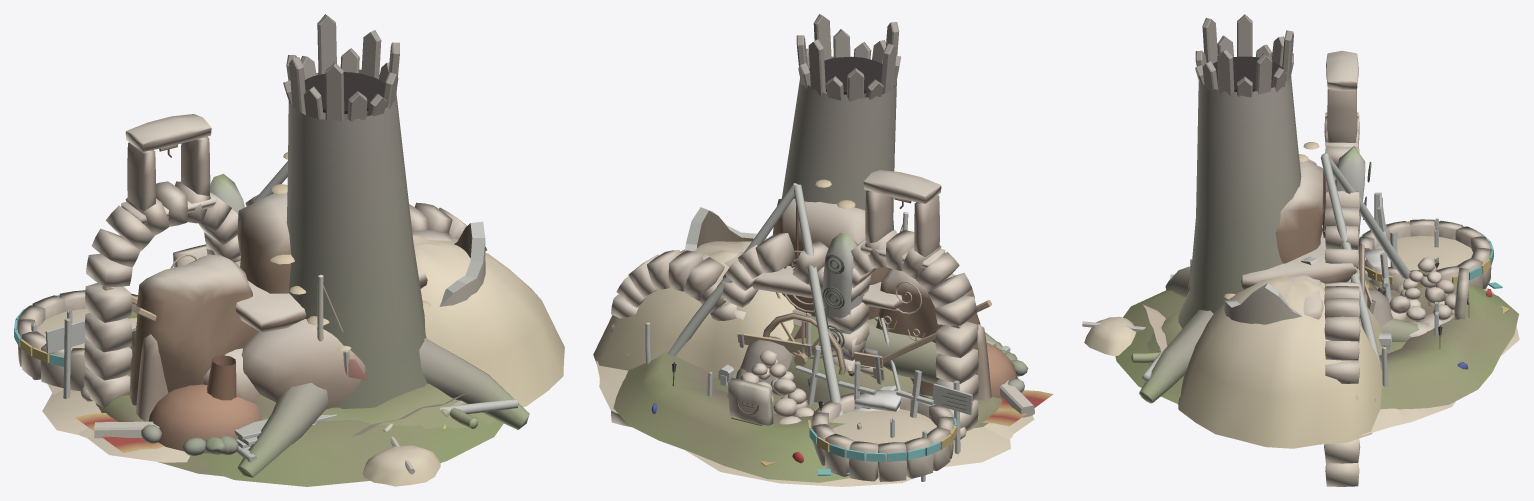
Rendered from sites_warm.glb.
The picture shows the model from 3 angles, left to right: view 1: azimuth 30°, elevation 25°; view 2: azimuth 150°, elevation 25°; view 3: azimuth 270°, elevation 25°; orthographic projection. The views are drawn at different scales.
Visible parts, largest first — view 1: site_rooted_pillar, site_drowned_outpost, site_glyph_wall, site_bell_pit, site_anselm_desert, site_anselm_forest, site_survey_line, site_trading_stones, site_looted_caravan, site_sawpit, site_charcoal_kiln; view 2: site_drowned_outpost, site_bell_pit, site_rooted_pillar, site_glyph_wall, site_looted_caravan, site_anselm_forest, site_survey_line, site_sawpit, site_charcoal_kiln, site_trading_stones, site_anselm_desert; view 3: site_drowned_outpost, site_rooted_pillar, site_bell_pit, site_survey_line, site_glyph_wall, site_anselm_forest, site_anselm_desert, site_looted_caravan, site_trading_stones, site_charcoal_kiln.
Boxes of the visible parts, bbox=[...] form: site_rooted_pillar: bbox=[198, 14, 529, 486]; site_drowned_outpost: bbox=[14, 114, 564, 438]; site_glyph_wall: bbox=[42, 193, 453, 435]; site_bell_pit: bbox=[128, 161, 518, 455]; site_anselm_desert: bbox=[203, 261, 427, 409]; site_anselm_forest: bbox=[31, 221, 485, 476]; site_survey_line: bbox=[173, 244, 440, 486]; site_trading_stones: bbox=[78, 274, 477, 438]; site_looted_caravan: bbox=[47, 286, 445, 462]; site_sawpit: bbox=[95, 330, 336, 462]; site_charcoal_kiln: bbox=[255, 394, 478, 428]; site_drowned_outpost: bbox=[593, 170, 1034, 481]; site_bell_pit: bbox=[613, 183, 1028, 482]; site_rooted_pillar: bbox=[712, 14, 1010, 413]; site_glyph_wall: bbox=[703, 198, 1010, 467]; site_looted_caravan: bbox=[599, 300, 1053, 486]; site_anselm_forest: bbox=[685, 207, 1018, 481]; site_survey_line: bbox=[728, 313, 813, 425]; site_sawpit: bbox=[718, 267, 1010, 430]; site_charcoal_kiln: bbox=[627, 316, 913, 403]; site_trading_stones: bbox=[596, 212, 1013, 439]; site_anselm_desert: bbox=[722, 265, 902, 310]; site_drowned_outpost: bbox=[1178, 50, 1509, 486]; site_rooted_pillar: bbox=[1115, 14, 1419, 403]; site_bell_pit: bbox=[1142, 153, 1518, 409]; site_survey_line: bbox=[1082, 257, 1469, 356]; site_glyph_wall: bbox=[1275, 159, 1328, 319]; site_anselm_forest: bbox=[1224, 192, 1438, 335]; site_anselm_desert: bbox=[1241, 232, 1356, 290]; site_looted_caravan: bbox=[1358, 243, 1519, 425]; site_trading_stones: bbox=[1143, 248, 1401, 435]; site_charcoal_kiln: bbox=[1131, 278, 1387, 401].
Size of the model in its own units: 6.65 by 5.97 by 6.24.
